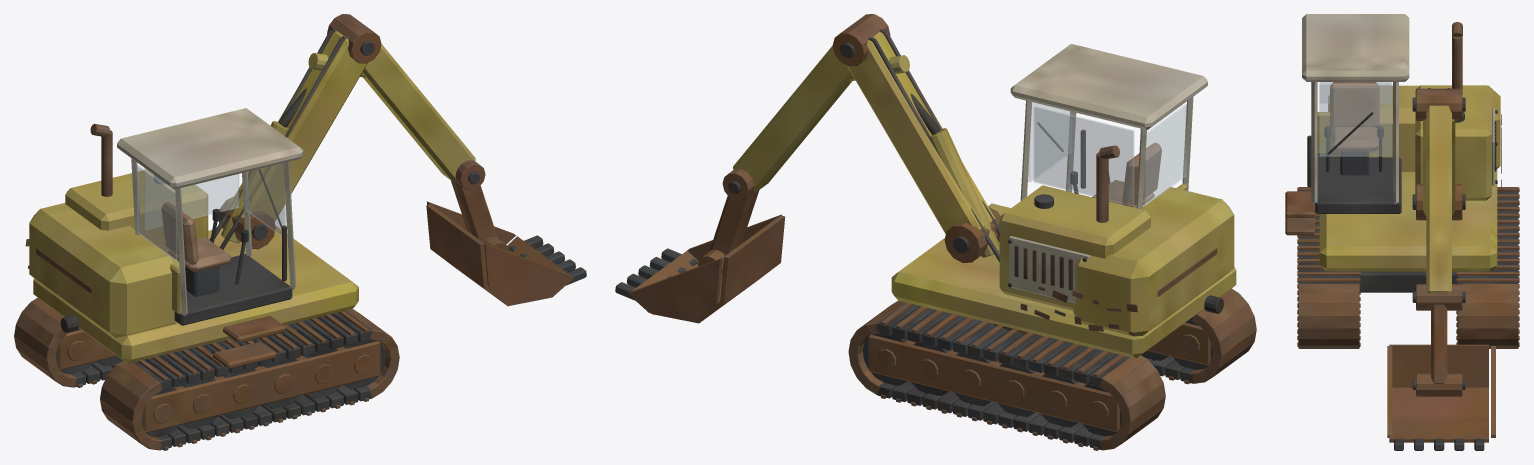
The model's file is CS11_excavator.glb.
3 renders of one model, left to right at view 1: azimuth 30°, elevation 25°; view 2: azimuth 150°, elevation 25°; view 3: azimuth 270°, elevation 25°, orthographic. The views are drawn at different scales.
Parts seen in each view (by area): view 1: Crawler frame; view 2: Crawler frame; view 3: Crawler frame.
Part boxes in pixels (x1,y1,x2,y2): Crawler frame: [14, 14, 586, 450]; Crawler frame: [615, 14, 1256, 450]; Crawler frame: [1285, 14, 1519, 450].
Bounding box in the file's own units: 6 × 3.36 × 2.51.
8 materials, 7 textured.
